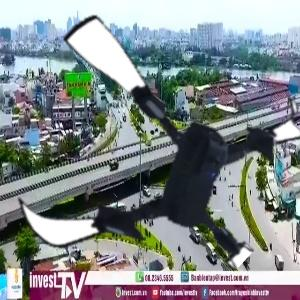drone: (7, 8, 296, 297)
